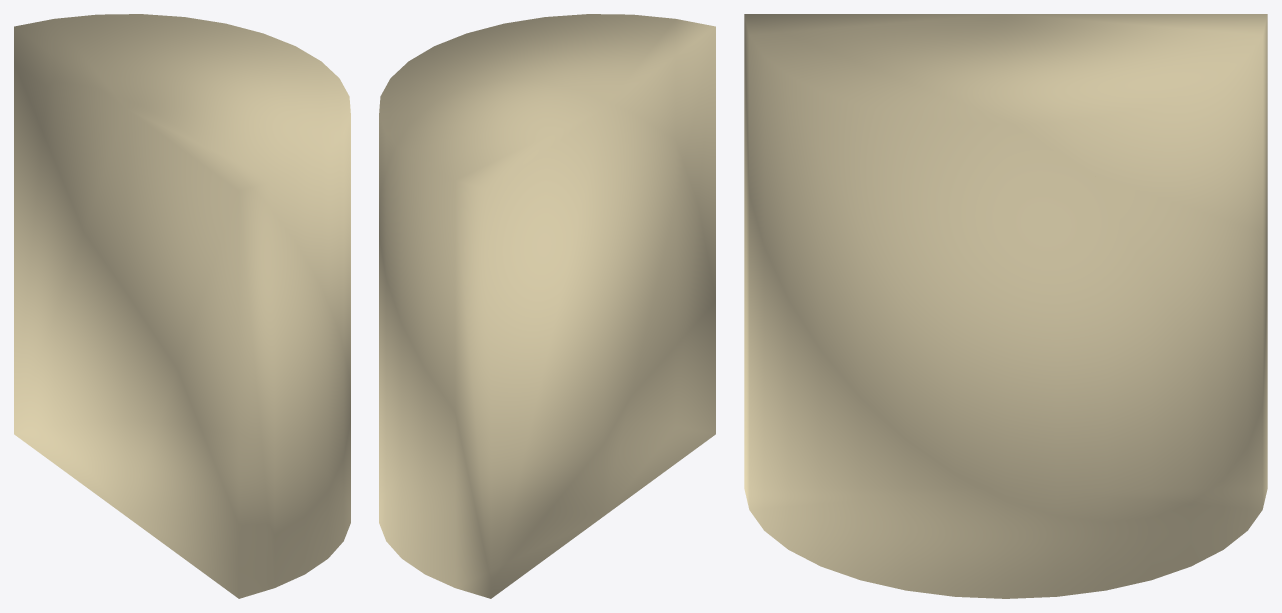
The model's file is лампанастену.fbx.
3 renders of one model, left to right at view 1: azimuth 30°, elevation 25°; view 2: azimuth 150°, elevation 25°; view 3: azimuth 270°, elevation 25°, orthographic. The views are drawn at different scales.
Visible parts, largest first — view 1: Cylinder; view 2: Cylinder; view 3: Cylinder.
Part boxes in pixels (x1=…): Cylinder: x1=14, y1=14, x2=350, y2=598; Cylinder: x1=379, y1=14, x2=715, y2=598; Cylinder: x1=744, y1=14, x2=1267, y2=598.
Bounding box in the file's own units: 100 × 200 × 200.
